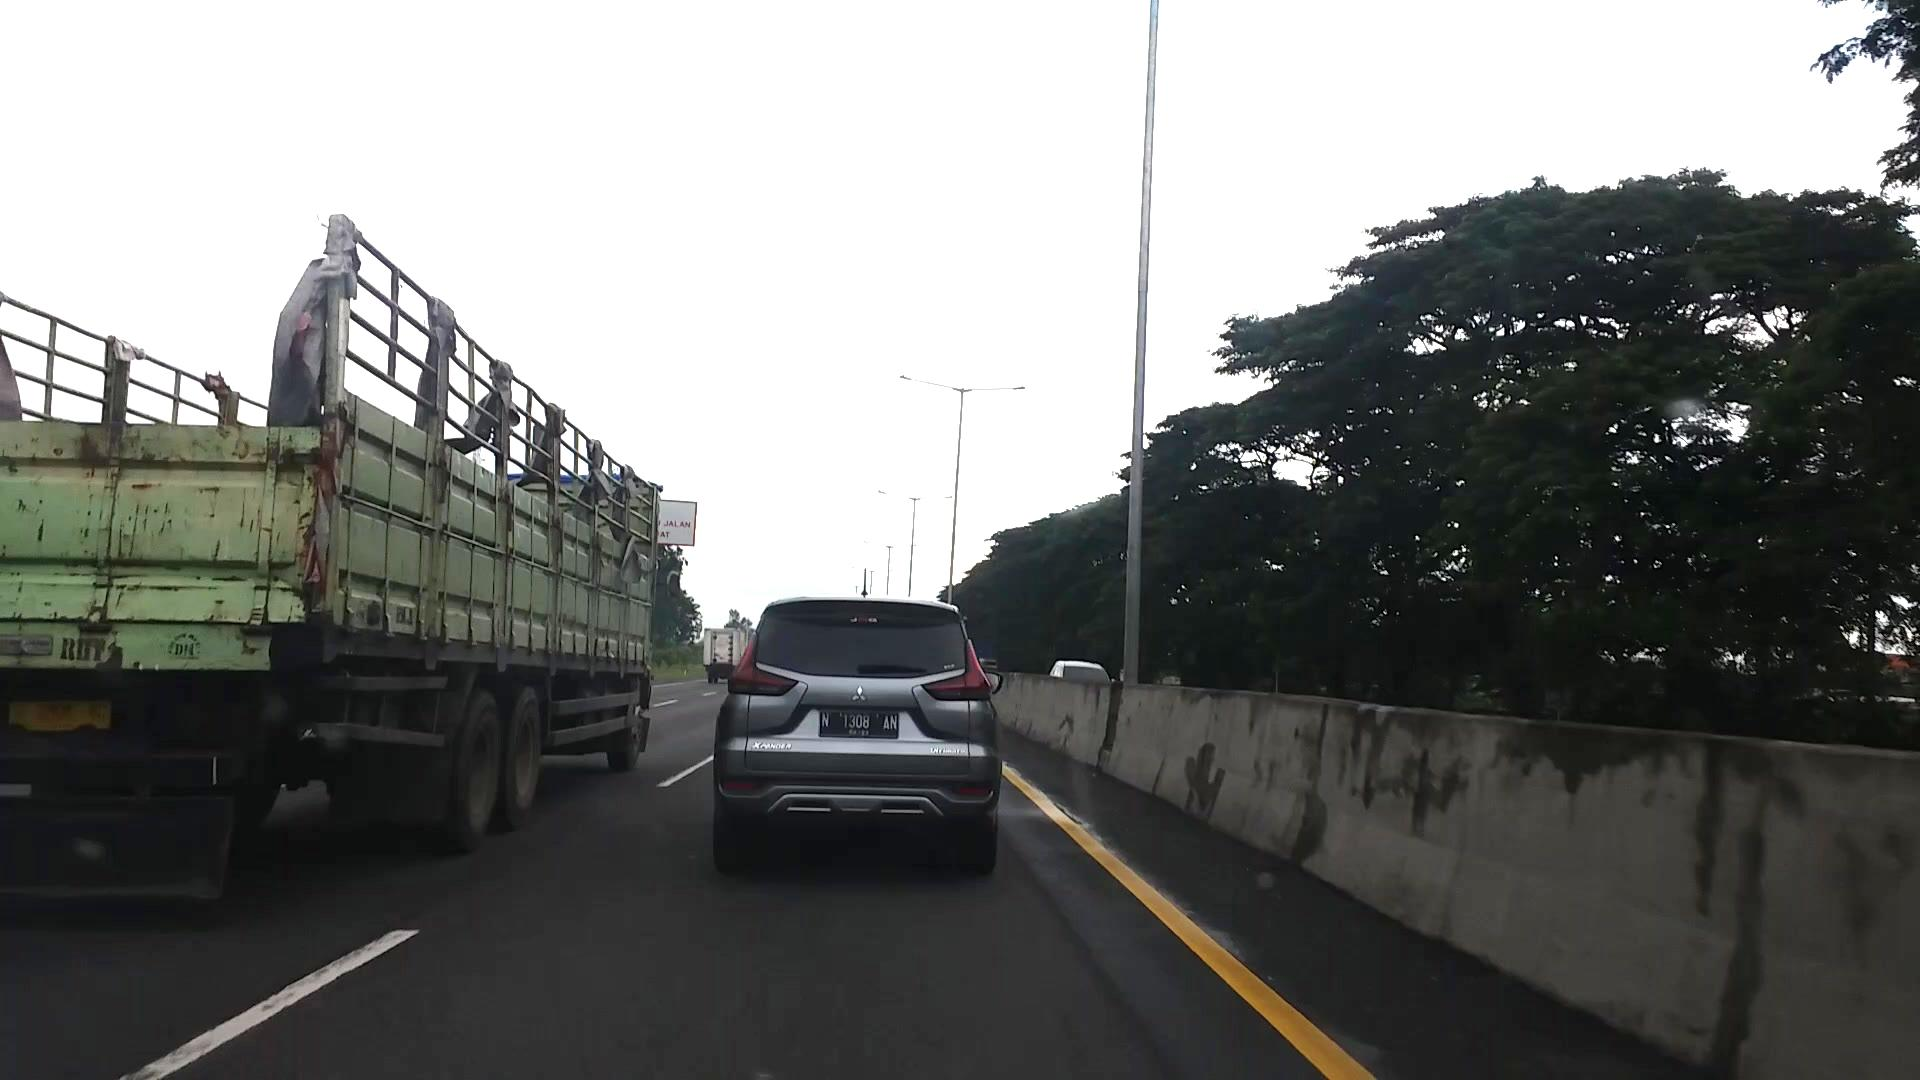plate_positive: (819, 709, 899, 738)
